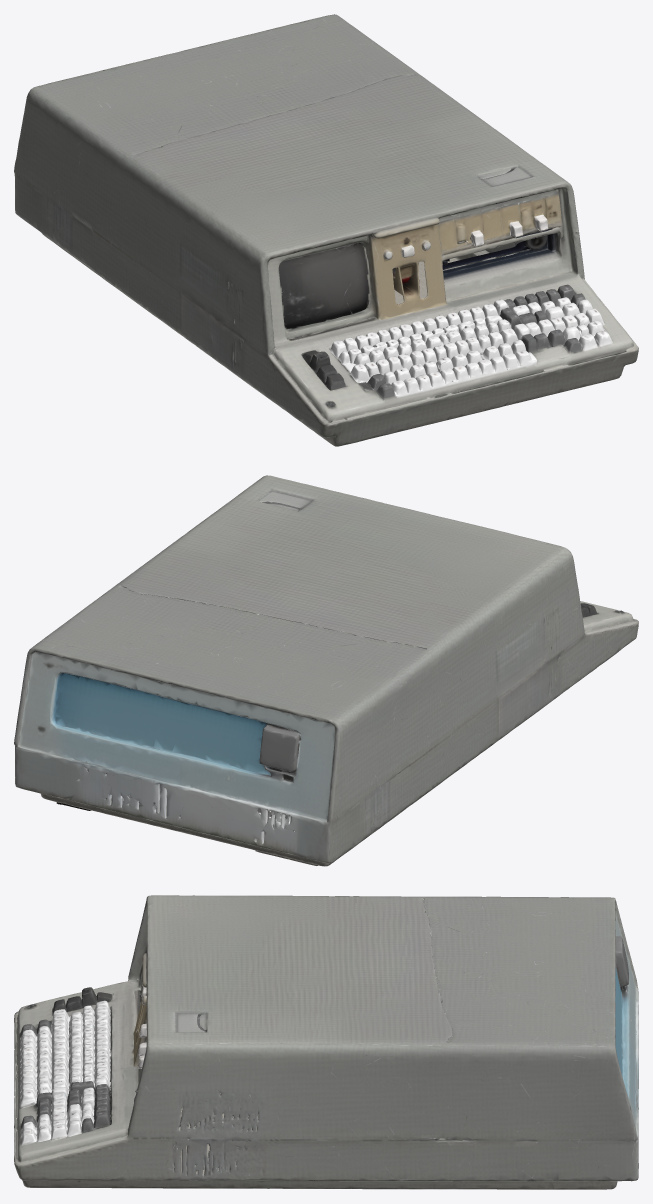
File: trellis5100-reference.glb
The picture shows the model from 3 angles, top to bottom: view 1: azimuth 30°, elevation 25°; view 2: azimuth 150°, elevation 25°; view 3: azimuth 270°, elevation 25°; orthographic projection.
Visible parts, largest first — view 1: geometry_0; view 2: geometry_0; view 3: geometry_0.
Boxes of the visible parts, x1,y1,x2,y2 form: geometry_0: (14,14,638,446); geometry_0: (14,475,638,866); geometry_0: (14,895,638,1189).
Bounding box in the file's own units: 0.59 × 0.2784 × 1.
1 material, 1 textured.
